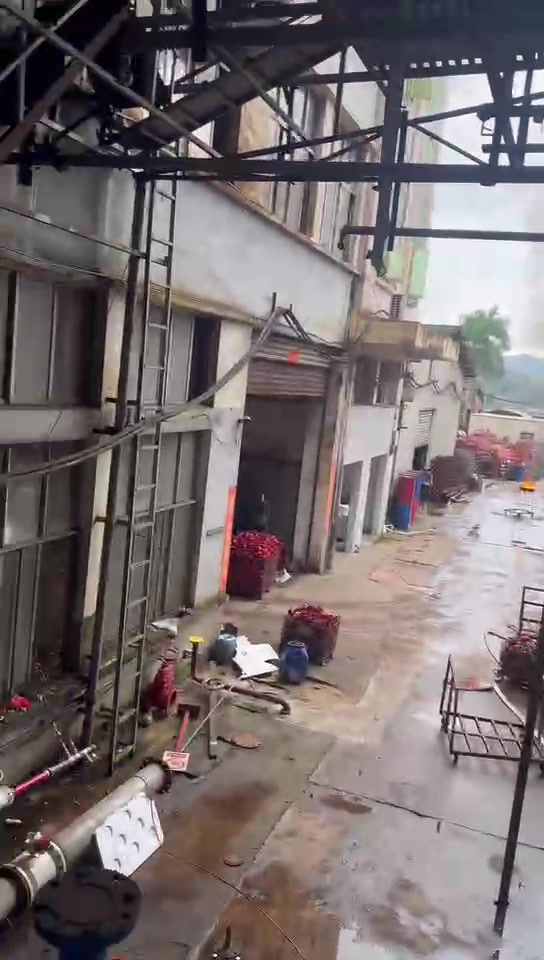fire: (521, 474, 537, 489)
